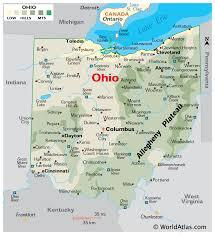ohio: (34, 28, 204, 210)
